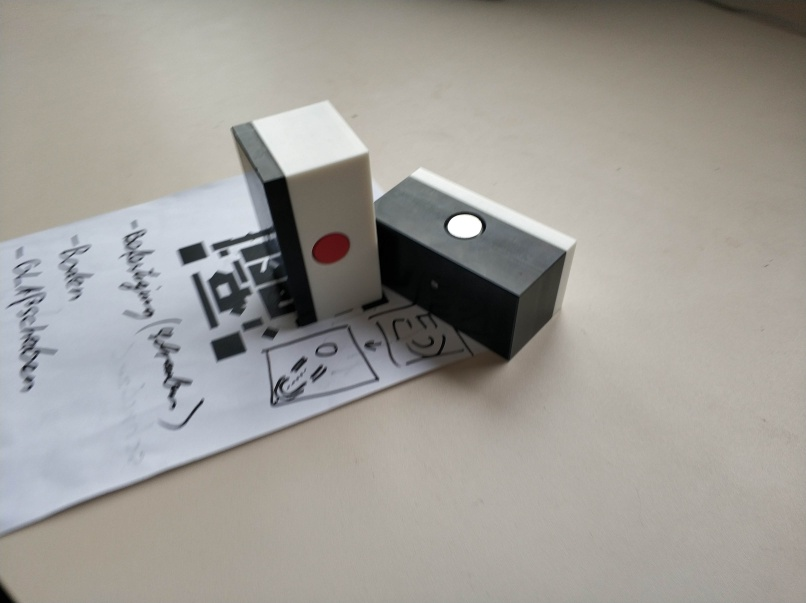black+white+red: (228, 99, 384, 331)
white+black+silver: (375, 168, 579, 362)
